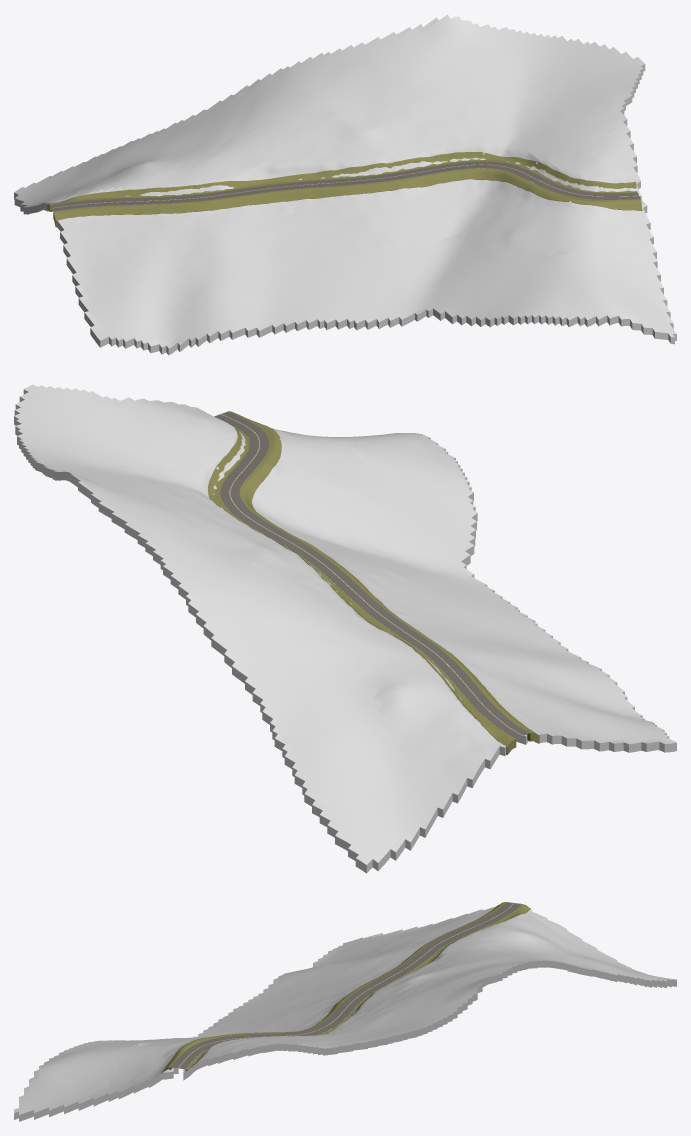
Rendered from conz_205.glb.
3 renders of one model, top to bottom at view 1: azimuth 30°, elevation 25°; view 2: azimuth 150°, elevation 25°; view 3: azimuth 270°, elevation 25°, orthographic. The views are drawn at different scales.
Parts seen in each view (by area): view 1: terrain205, verge205R, verge205L, road205; view 2: terrain205, road205, verge205L, verge205R; view 3: terrain205, road205, verge205R, verge205L.
Part boxes in pixels (box(x1,y1,x2,y2)): terrain205: box(14, 14, 676, 355); verge205R: box(53, 168, 642, 227); verge205L: box(47, 152, 637, 211); road205: box(50, 161, 640, 211); terrain205: box(14, 384, 676, 873); road205: box(214, 411, 529, 738); verge205L: box(208, 424, 516, 755); verge205R: box(228, 411, 539, 743); terrain205: box(14, 906, 676, 1121); road205: box(171, 902, 520, 1069); verge205R: box(162, 902, 506, 1072); verge205L: box(185, 904, 530, 1071).
Size of the model in its own units: 244 by 79.17 by 266.
